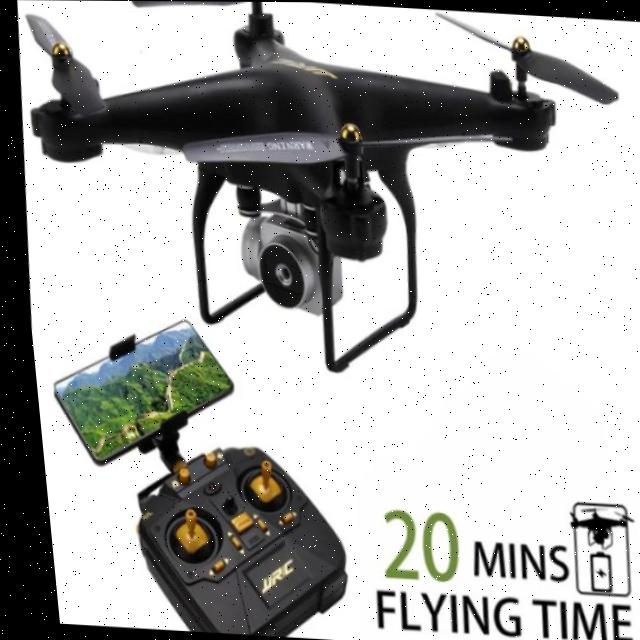drones: (0, 0, 640, 402)
